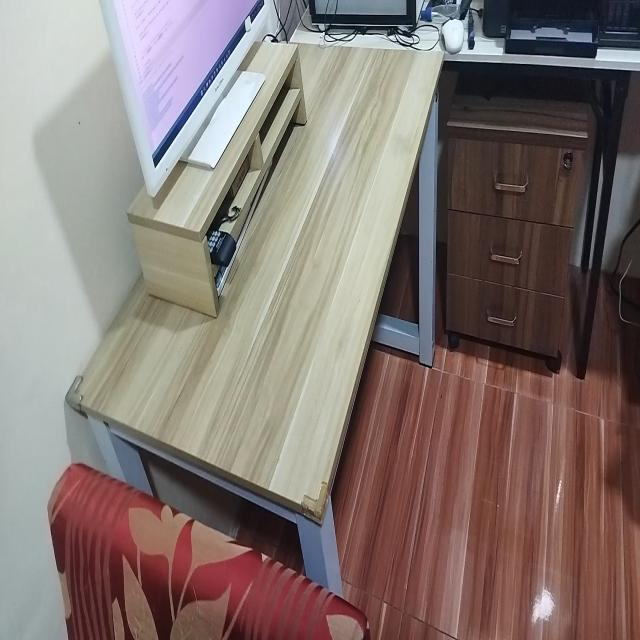table: (65, 34, 446, 554)
